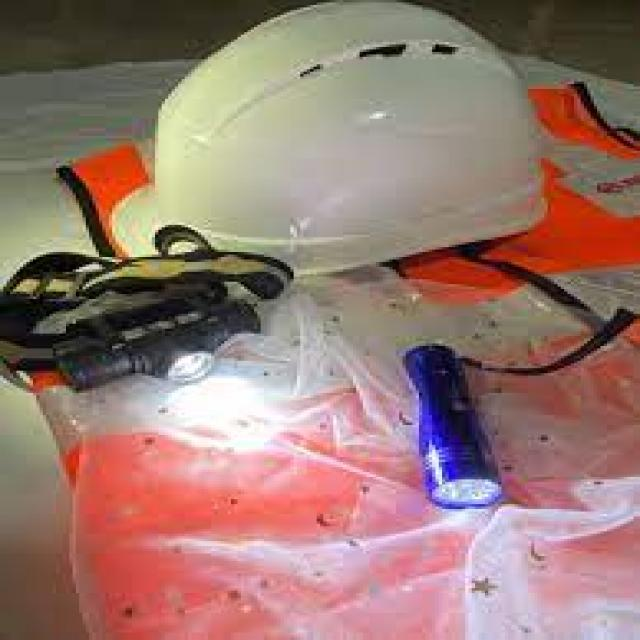Safety-Helmet: (99, 0, 637, 287)
